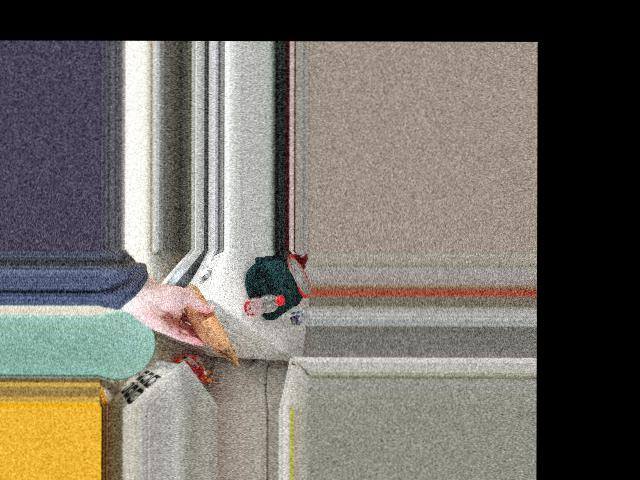sweet_potato: (185, 298, 229, 344)
